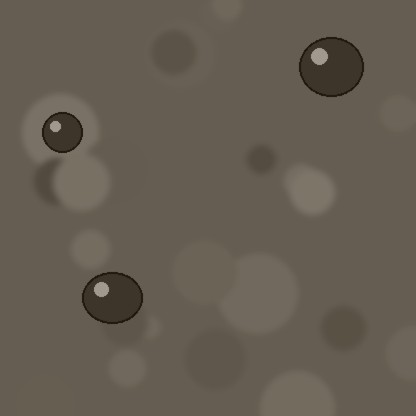gota: (299, 39, 363, 101), (82, 274, 142, 328), (42, 114, 82, 156)
